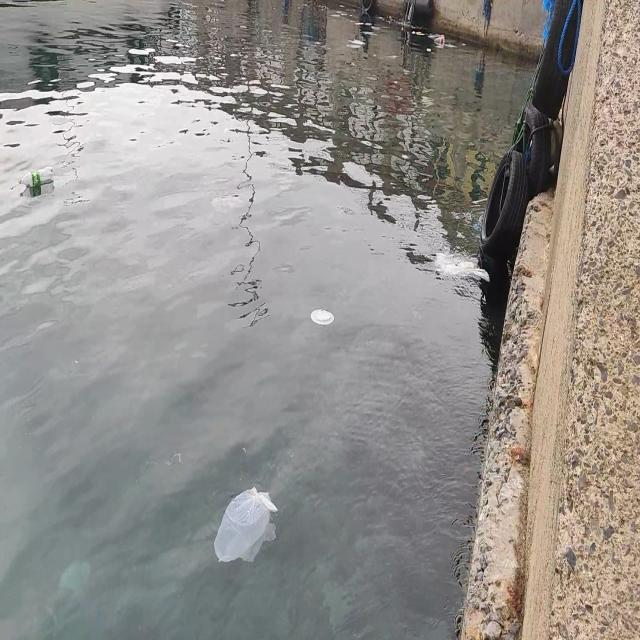Plastic: (311, 305, 334, 328)
Plastic bag: (212, 485, 278, 567), (434, 248, 491, 288)
Plastic bottle: (17, 165, 56, 192), (434, 35, 445, 47)
